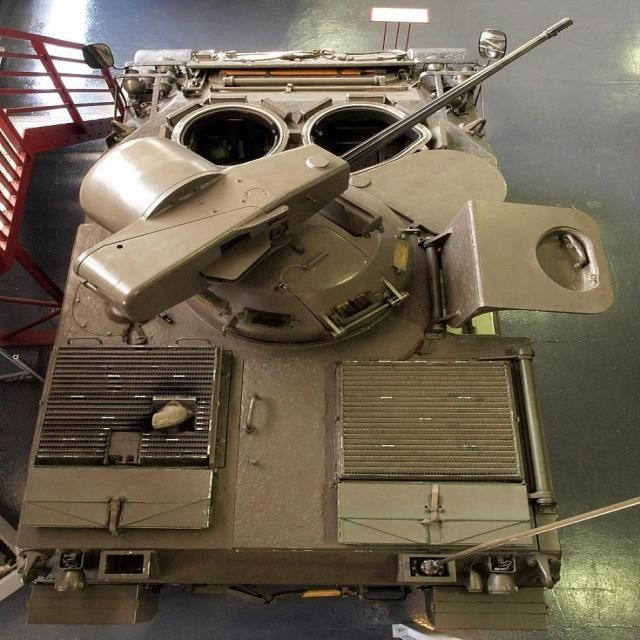MIL_MBT: (58, 44, 558, 579)
